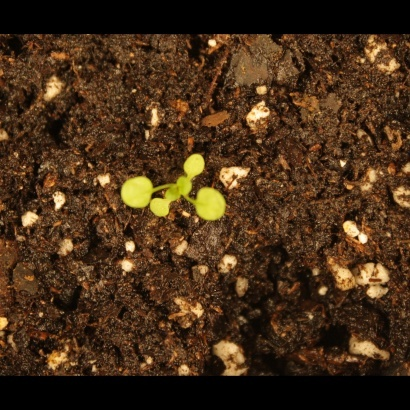leaf: (114, 167, 157, 214), (193, 184, 230, 224), (182, 151, 209, 182), (152, 198, 175, 222), (173, 175, 196, 198), (163, 184, 186, 207)
